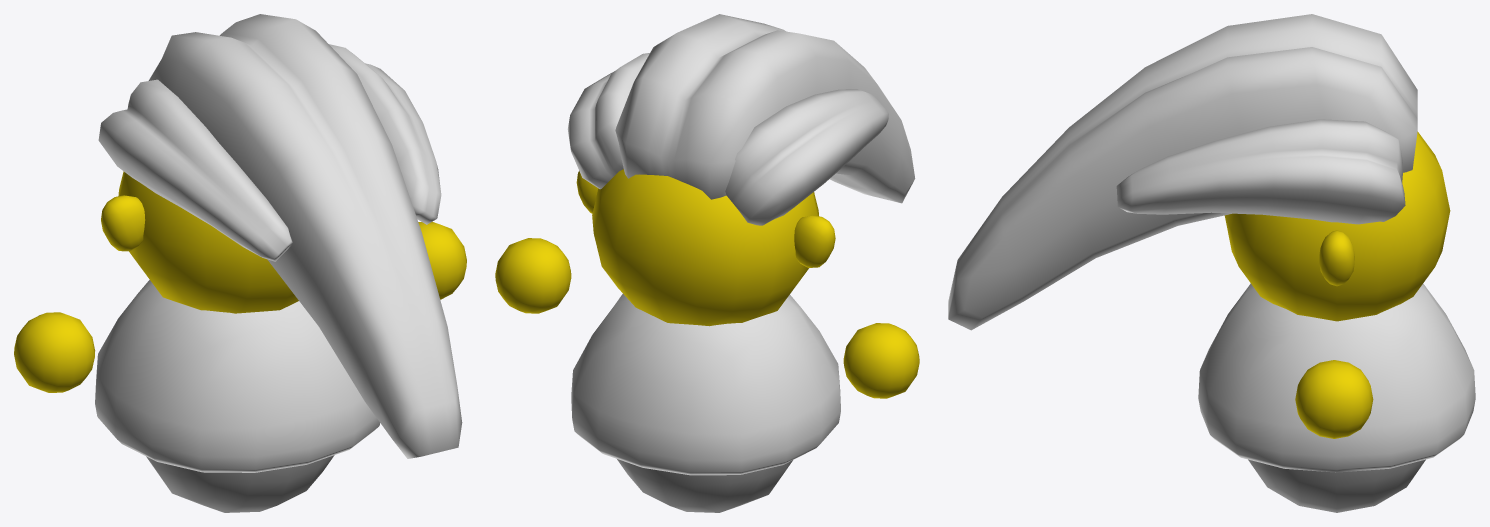
The model's file is Lewis_Mesh.fbx.
3 views of the same model, side by side, from view 1: azimuth 30°, elevation 25°; view 2: azimuth 150°, elevation 25°; view 3: azimuth 270°, elevation 25° (orthographic). The views are drawn at different scales.
Parts seen in each view (by area): view 1: pCube1, Body, pCube2, Head, pCube3, RollerBall, Hand_R, Hand_L, Ear_R; view 2: Body, pCube1, Head, pCube2, pCube3, RollerBall, Hand_R, Hand_L, Ear_R, Ear_L; view 3: pCube1, Body, pCube3, Head, RollerBall, Hand_L, Ear_L.
Boxes of the visible parts, <box> form: pCube1: <box>148,14,462,458</box>; Body: <box>95,280,379,472</box>; pCube2: <box>98,79,292,261</box>; Head: <box>118,171,298,313</box>; pCube3: <box>329,44,441,224</box>; RollerBall: <box>146,455,334,512</box>; Hand_R: <box>14,312,95,392</box>; Hand_L: <box>418,221,466,299</box>; Ear_R: <box>101,195,145,251</box>; Body: <box>571,294,840,475</box>; pCube1: <box>615,14,915,203</box>; Head: <box>592,169,818,326</box>; pCube2: <box>725,89,888,225</box>; pCube3: <box>567,53,649,189</box>; RollerBall: <box>617,459,792,512</box>; Hand_R: <box>843,323,919,398</box>; Hand_L: <box>495,238,571,313</box>; Ear_R: <box>794,215,835,267</box>; Ear_L: <box>576,171,598,213</box>; pCube1: <box>948,14,1417,330</box>; Body: <box>1198,283,1475,472</box>; pCube3: <box>1116,119,1405,224</box>; Head: <box>1224,131,1450,321</box>; RollerBall: <box>1248,459,1425,512</box>; Hand_L: <box>1295,360,1373,438</box>; Ear_L: <box>1319,230,1354,286</box>.
Size of the model in its own units: 175 by 183 by 187.
